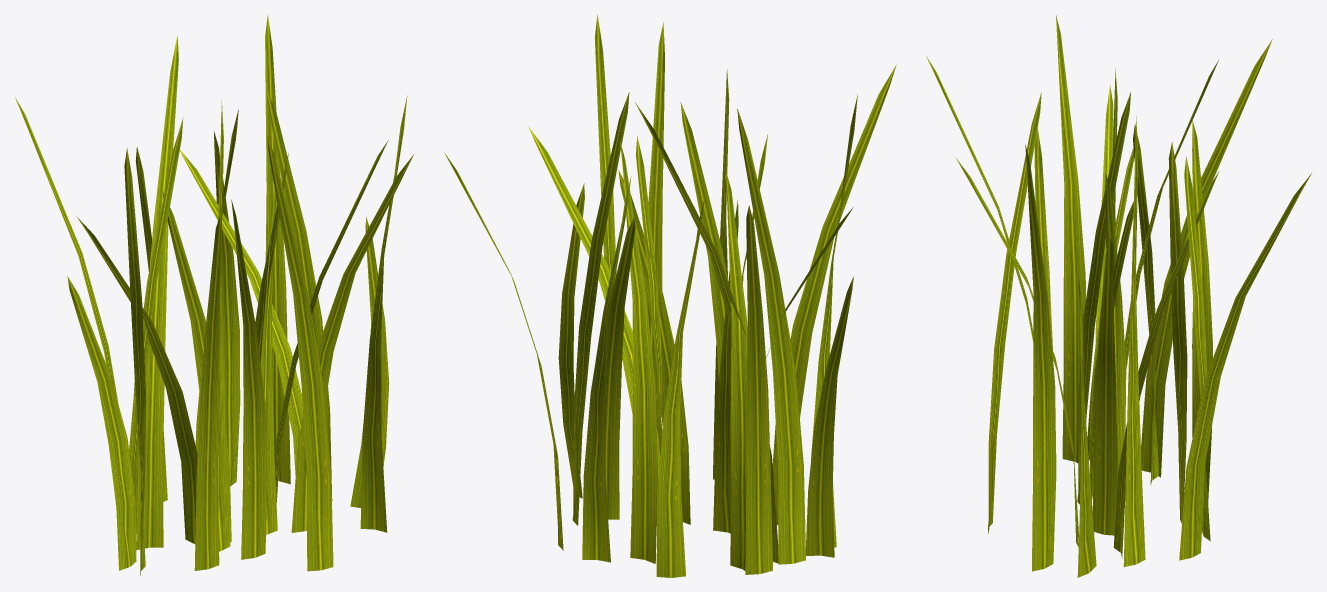
Rendered from grasspatch1.FBX.
3 renders of one model, left to right at view 1: azimuth 30°, elevation 25°; view 2: azimuth 150°, elevation 25°; view 3: azimuth 270°, elevation 25°, orthographic. The views are drawn at different scales.
Parts seen in each view (by area): view 1: grassb027; view 2: grassb027; view 3: grassb027.
Part boxes in pixels (x1,y1,x2,y2): grassb027: [14, 14, 413, 575]; grassb027: [443, 14, 896, 577]; grassb027: [926, 15, 1311, 577].
Bounding box in the file's own units: 370 × 392 × 510.
